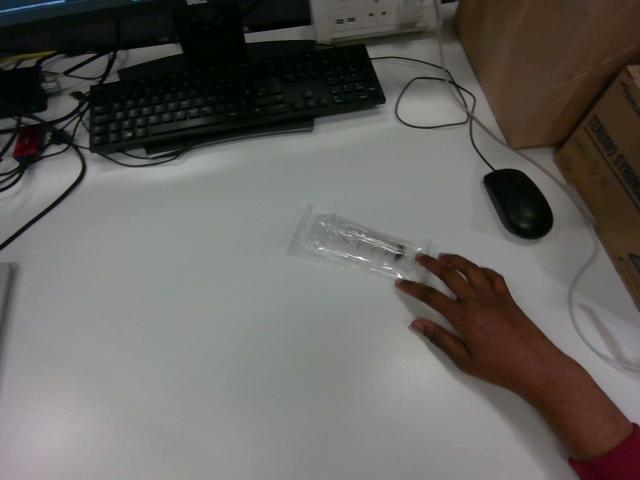syringe: (290, 206, 429, 281)
